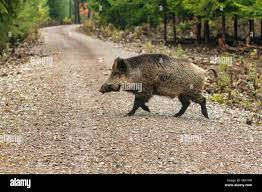boar: (98, 54, 212, 121)
